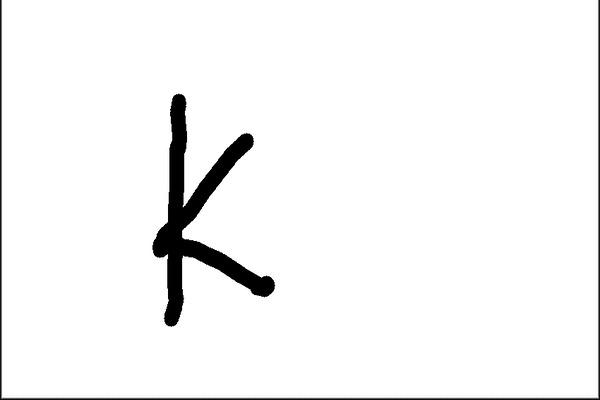K: (149, 89, 282, 329)
